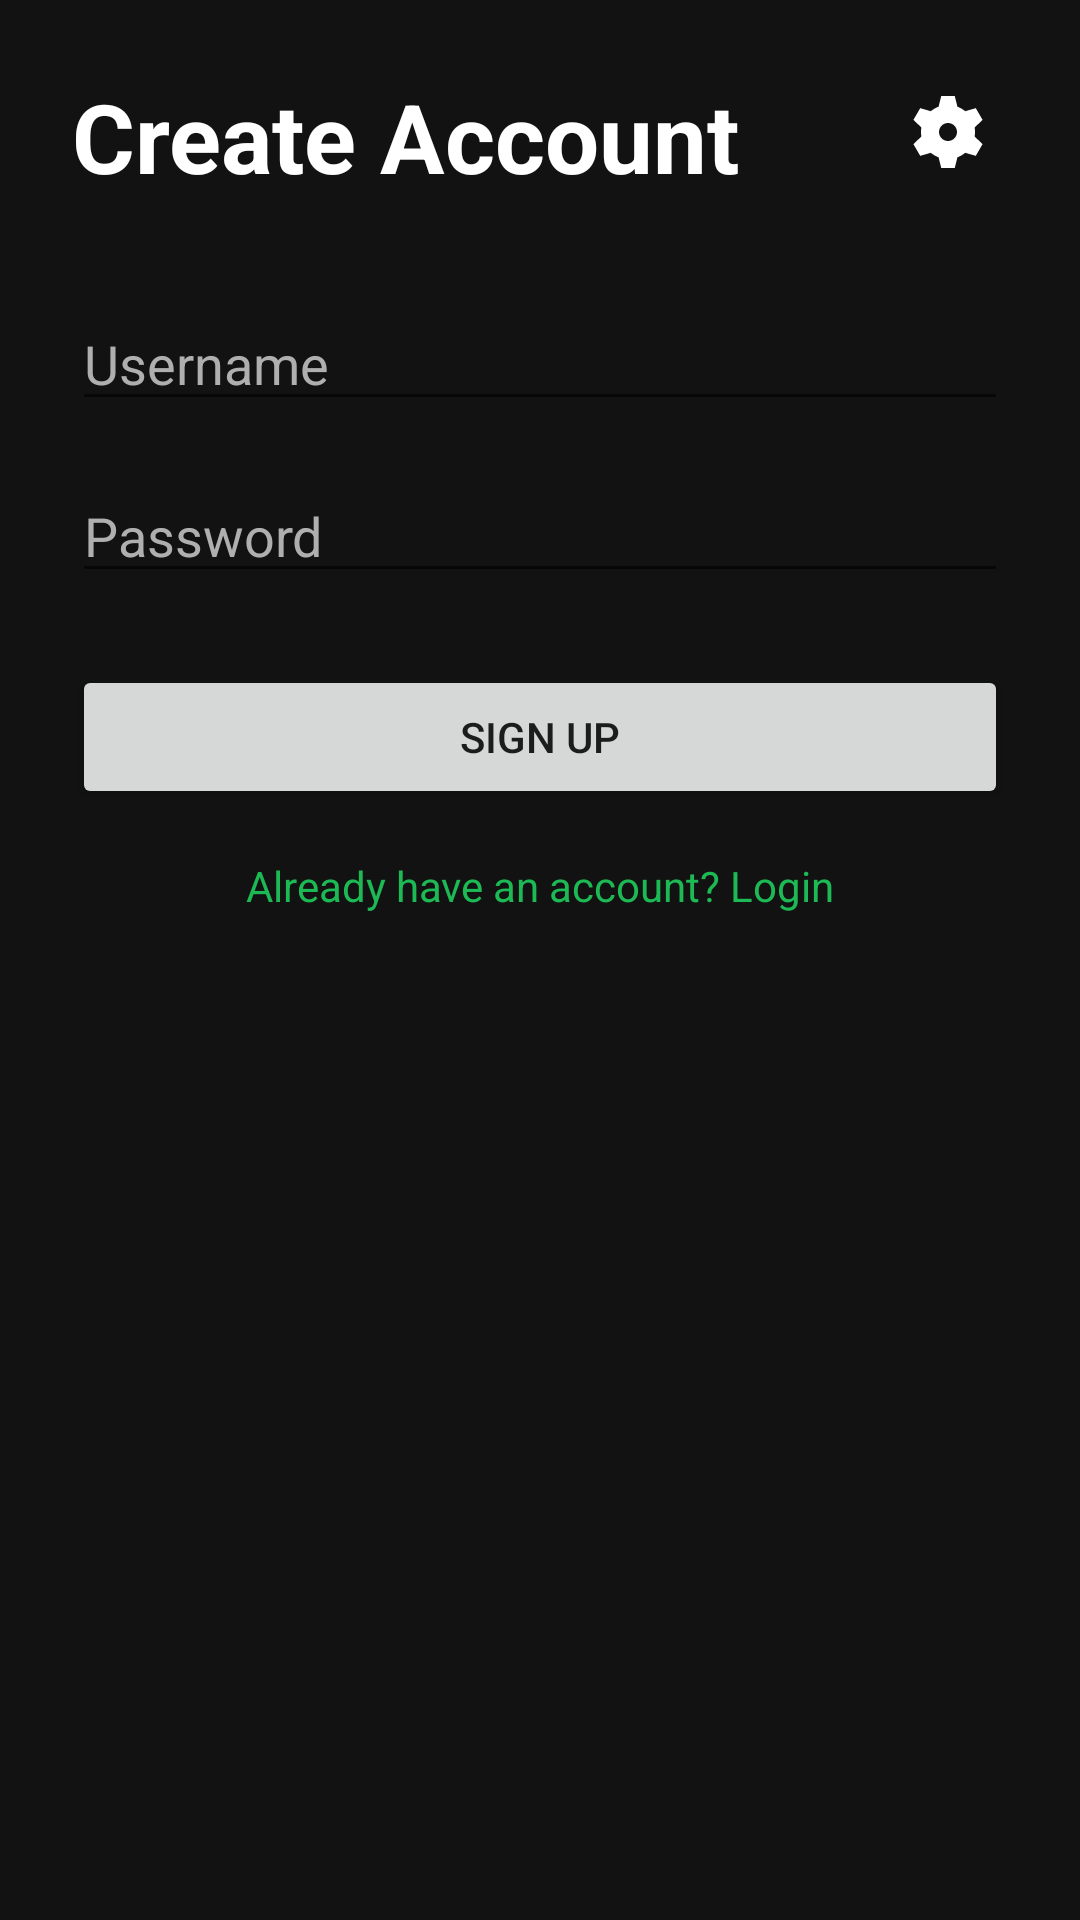

Screen size 1080w x 1920h. Icon name, then its box in pixels as (left=x1, top=y1, right=x2, bottom=y2):
Settings: (left=913, top=96, right=983, bottom=168)
